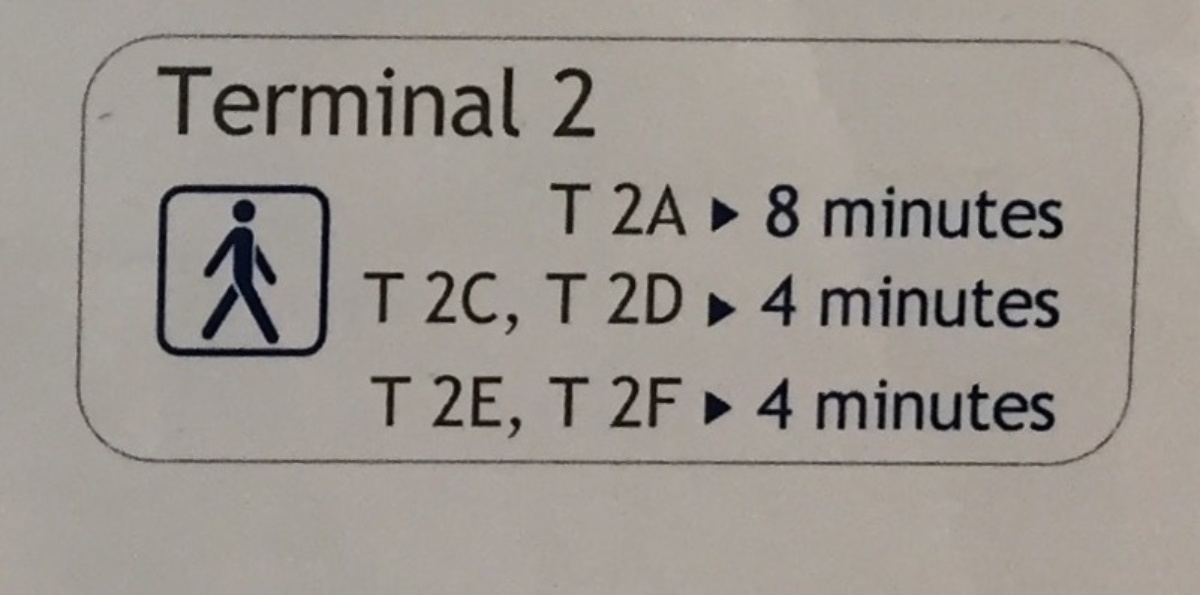text: (561, 65, 576, 138), (577, 65, 592, 138), (161, 65, 176, 138), (177, 65, 192, 138), (193, 65, 208, 138), (209, 65, 224, 138), (225, 65, 240, 138), (241, 65, 256, 138), (257, 65, 272, 138), (273, 65, 288, 138), (289, 65, 304, 138), (305, 65, 320, 138), (321, 65, 336, 138), (337, 65, 352, 138), (353, 65, 368, 138), (369, 65, 384, 138), (385, 65, 400, 138), (401, 65, 416, 138), (417, 65, 432, 138), (433, 65, 448, 138), (449, 65, 464, 138), (465, 65, 480, 138), (481, 65, 496, 138), (497, 65, 512, 138), (433, 267, 448, 336), (449, 267, 464, 336), (465, 267, 480, 336), (481, 267, 496, 336), (497, 267, 512, 336), (433, 374, 448, 440), (449, 374, 464, 440), (465, 374, 480, 440), (481, 374, 496, 440), (497, 374, 512, 440), (1041, 375, 1057, 432), (769, 180, 784, 239), (785, 180, 800, 239), (609, 270, 624, 327), (625, 270, 640, 327), (641, 270, 656, 327), (657, 270, 672, 327), (625, 180, 640, 237), (641, 180, 656, 237), (657, 180, 672, 237), (673, 180, 688, 237), (833, 183, 848, 240), (849, 183, 864, 240), (865, 183, 880, 240), (881, 183, 896, 240), (897, 183, 912, 240), (913, 183, 928, 240), (929, 183, 944, 240), (945, 183, 960, 240), (961, 183, 976, 240), (977, 183, 992, 240), (993, 183, 1008, 240), (1009, 183, 1024, 240), (1025, 183, 1040, 240), (1041, 183, 1056, 240), (833, 273, 848, 330), (849, 273, 864, 330), (865, 273, 880, 330), (881, 273, 896, 330), (897, 273, 912, 330), (913, 273, 928, 330), (929, 273, 944, 330), (945, 273, 960, 330), (961, 273, 976, 330), (977, 273, 992, 330), (993, 273, 1008, 330), (1009, 273, 1024, 330), (1025, 273, 1040, 330), (1041, 273, 1056, 330), (817, 375, 832, 432), (833, 375, 848, 432), (849, 375, 864, 432), (865, 375, 880, 432), (881, 375, 896, 432), (897, 375, 912, 432), (913, 375, 928, 432), (929, 375, 944, 432), (945, 375, 960, 432), (961, 375, 976, 432), (977, 375, 992, 432), (993, 375, 1008, 432), (1009, 375, 1024, 432), (1025, 375, 1040, 432), (369, 270, 384, 326), (385, 270, 400, 326), (545, 270, 560, 326), (561, 270, 576, 326), (769, 273, 784, 329), (369, 374, 384, 429), (385, 374, 400, 429), (609, 374, 624, 429), (625, 374, 640, 429), (641, 374, 656, 429), (657, 374, 672, 429), (769, 377, 784, 432), (561, 375, 576, 429), (673, 270, 687, 327), (561, 183, 576, 236), (577, 183, 592, 236), (513, 374, 525, 440), (785, 273, 799, 329), (577, 375, 591, 429), (547, 375, 560, 429), (612, 180, 624, 237), (513, 65, 522, 138), (821, 273, 832, 330), (423, 267, 432, 336), (577, 270, 588, 326), (401, 374, 412, 429), (673, 374, 684, 429), (757, 377, 768, 432), (785, 377, 796, 432), (550, 183, 560, 236), (553, 65, 560, 138), (513, 267, 520, 336), (824, 183, 832, 240), (760, 273, 768, 329), (1057, 183, 1064, 240), (593, 65, 597, 138), (363, 270, 368, 326), (401, 270, 406, 326), (1057, 273, 1061, 330), (158, 65, 160, 138), (766, 180, 768, 239), (814, 375, 816, 432), (801, 180, 802, 239), (607, 270, 608, 327)
